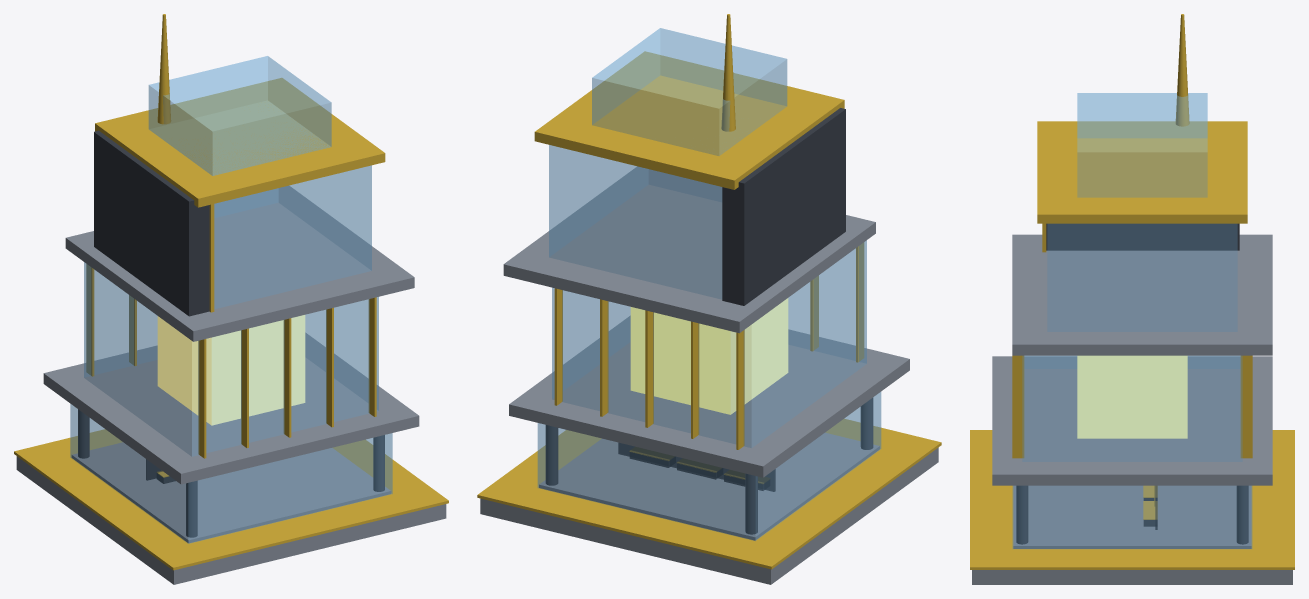
File: building.glb
The picture shows the model from 3 angles, left to right: view 1: azimuth 30°, elevation 25°; view 2: azimuth 150°, elevation 25°; view 3: azimuth 270°, elevation 25°; orthographic projection. The views are drawn at different scales.
Parts seen in each view (by area): view 1: Glass_MidTier, Stone_UpperSlab, Stone_MidFloorSlab, Gold_CrownSlab, Glass_Lobby, Glass_UpperTier, Glass_Penthouse, Stone_LobbyFloor, Gold_PodiumBand, Titanium_FeatureWall, Core_MidTier, Stone_Podium (+4 smaller); view 2: Glass_MidTier, Stone_UpperSlab, Stone_MidFloorSlab, Gold_CrownSlab, Glass_Lobby, Glass_UpperTier, Glass_Penthouse, Gold_PodiumBand, Titanium_FeatureWall, Stone_LobbyFloor, Core_MidTier, Stone_Podium (+4 smaller); view 3: Stone_UpperSlab, Stone_MidFloorSlab, Glass_MidTier, Gold_CrownSlab, Glass_UpperTier, Glass_Lobby, Gold_PodiumBand, Glass_Penthouse, Stone_LobbyFloor, Core_MidTier, Titanium_FeatureWall, Stone_Podium (+3 smaller).
Boxes of the visible parts, box(x1,y1,x2,y2) form: Glass_MidTier: box(84, 262, 378, 456); Stone_UpperSlab: box(65, 186, 414, 341); Stone_MidFloorSlab: box(43, 333, 419, 484); Gold_CrownSlab: box(95, 78, 385, 207); Glass_Lobby: box(70, 404, 392, 543); Glass_UpperTier: box(214, 165, 371, 308); Glass_Penthouse: box(148, 56, 331, 175); Stone_LobbyFloor: box(71, 442, 391, 543); Gold_PodiumBand: box(14, 429, 448, 570); Titanium_FeatureWall: box(94, 130, 209, 316); Core_MidTier: box(157, 315, 305, 425); Stone_Podium: box(16, 456, 446, 584); Glass_MidTier: box(552, 240, 866, 447); Stone_UpperSlab: box(503, 166, 875, 333); Stone_MidFloorSlab: box(509, 316, 909, 477); Gold_CrownSlab: box(534, 51, 844, 189); Glass_Lobby: box(537, 392, 881, 540); Glass_UpperTier: box(549, 145, 722, 299); Glass_Penthouse: box(592, 28, 787, 155); Gold_PodiumBand: box(477, 419, 941, 569); Titanium_FeatureWall: box(722, 108, 845, 305); Stone_LobbyFloor: box(539, 432, 879, 540); Core_MidTier: box(630, 298, 788, 414); Stone_Podium: box(480, 447, 938, 584); Stone_UpperSlab: box(1012, 234, 1272, 355); Stone_MidFloorSlab: box(992, 356, 1272, 485); Glass_MidTier: box(1022, 355, 1242, 461); Gold_CrownSlab: box(1037, 121, 1247, 223); Glass_UpperTier: box(1047, 224, 1237, 331); Glass_Lobby: box(1012, 486, 1252, 548); Gold_PodiumBand: box(970, 430, 1294, 569); Glass_Penthouse: box(1077, 93, 1207, 197); Stone_LobbyFloor: box(1013, 485, 1251, 548); Core_MidTier: box(1077, 355, 1187, 438); Titanium_FeatureWall: box(1046, 223, 1239, 250); Stone_Podium: box(972, 570, 1292, 584).
Size of the model in its own units: 16.2 by 26.5 by 16.2.
